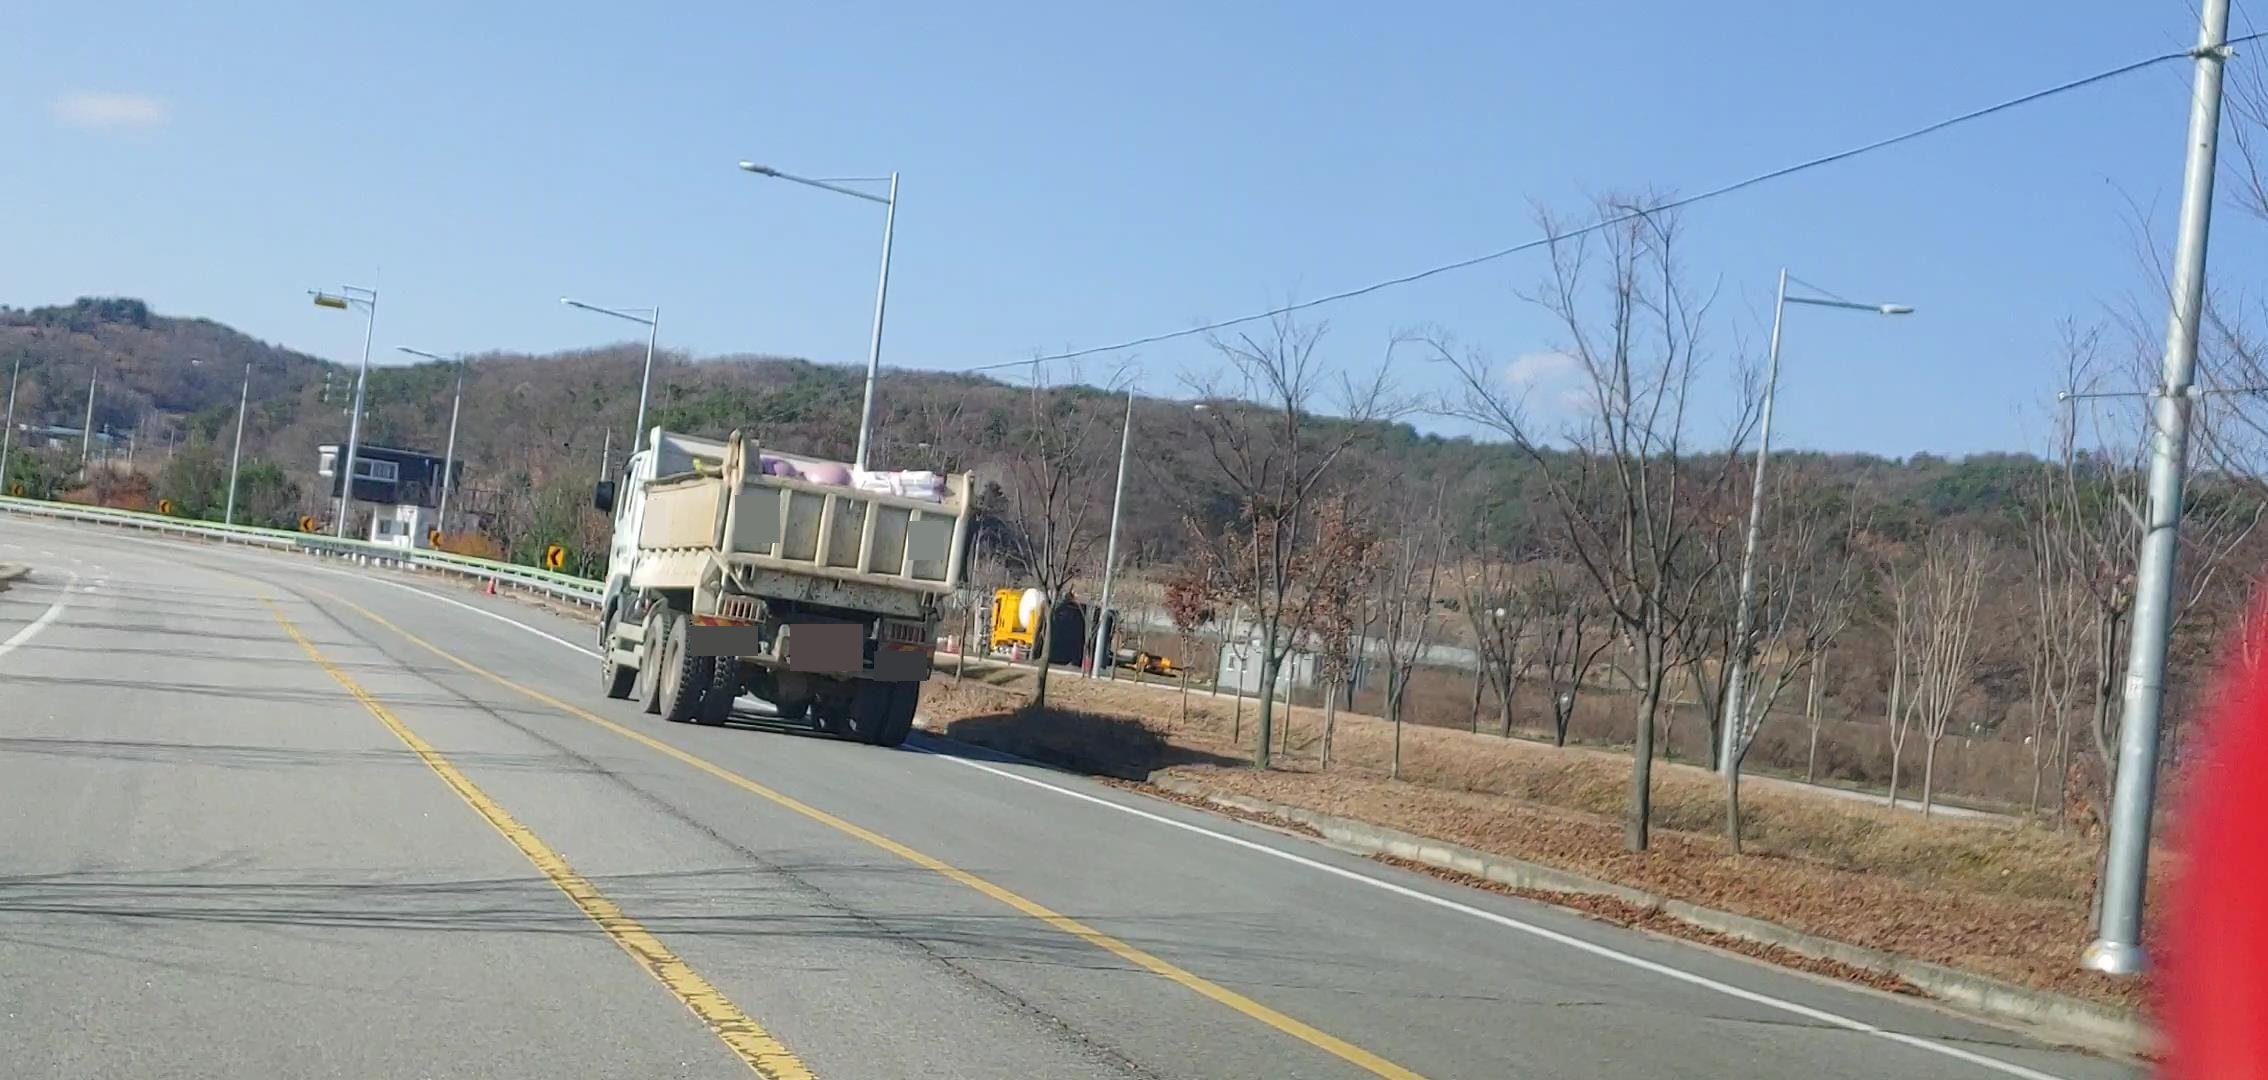불법차량: (594, 425, 976, 749)
